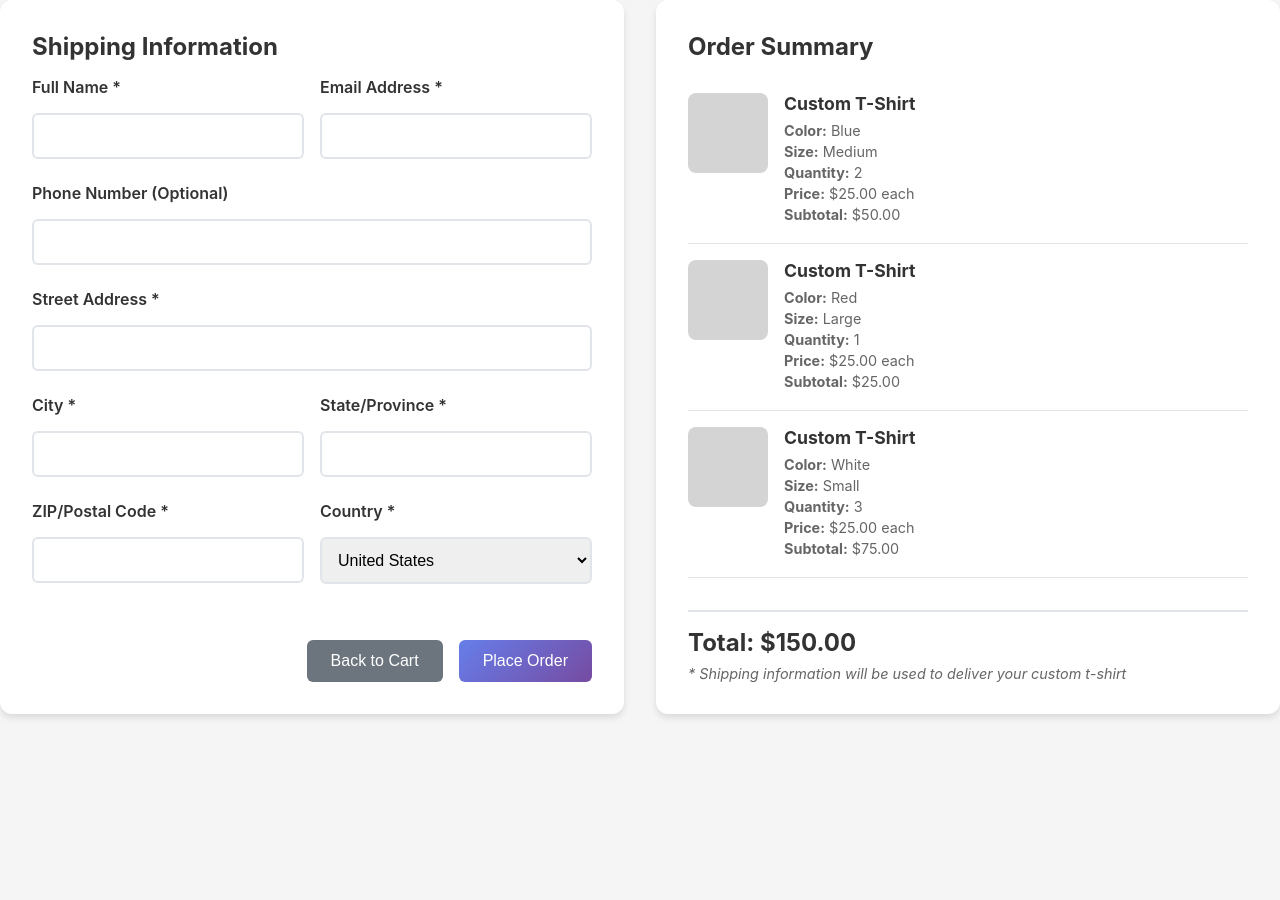
Test case: Checkout Component › Navigation and User Experience › should show loading state during order processing
The image size is (1280, 900).
# Fill in all required fields
In the field labelled "Full Name *": (168,136) x1=32 y1=113 x2=304 y2=159, type "Test Customer"
In the field labelled "Email Address *": (456,136) x1=320 y1=113 x2=592 y2=159, type "test@example.com"
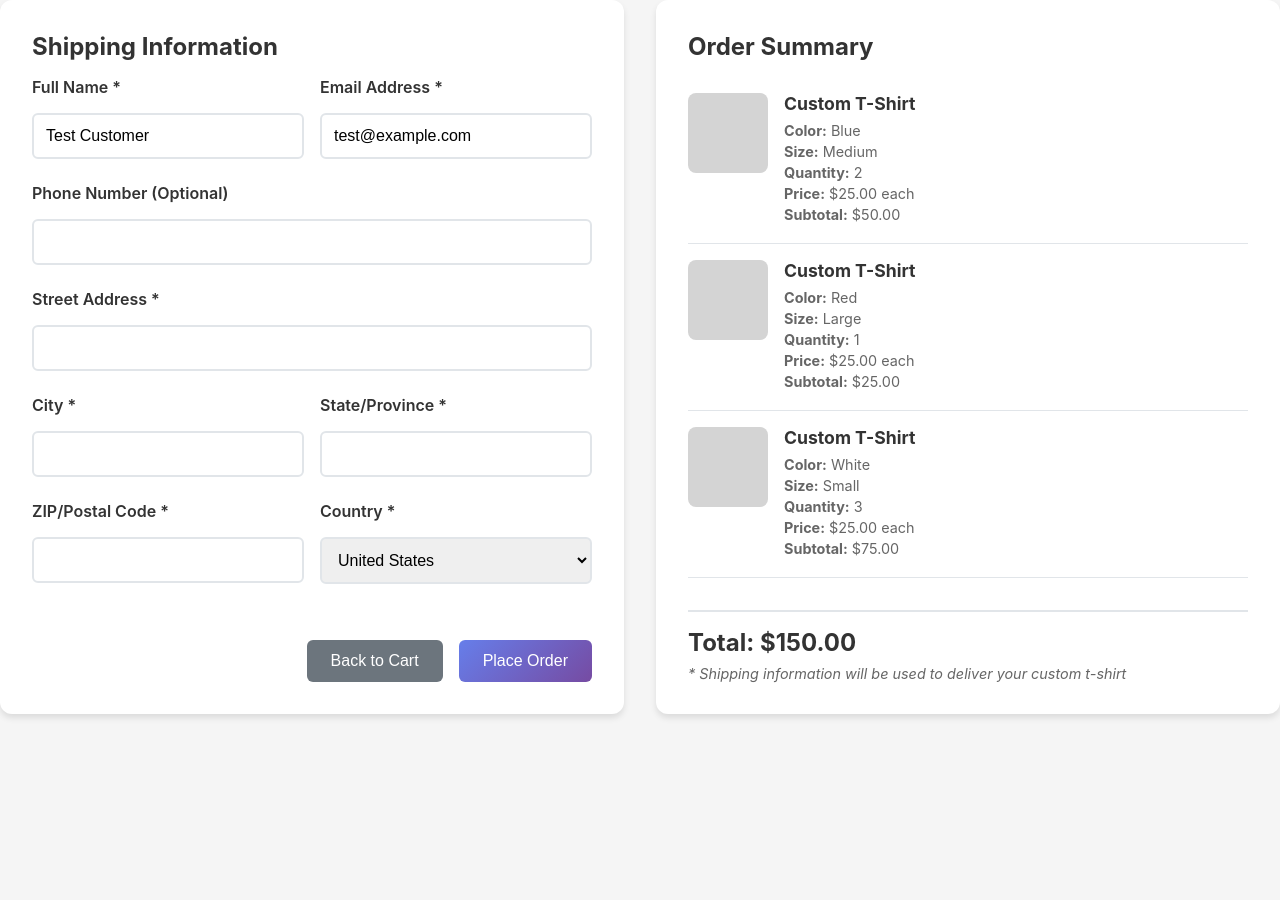
In the field labelled "Street Address *": (312,348) x1=32 y1=325 x2=592 y2=371, type "123 Test St"
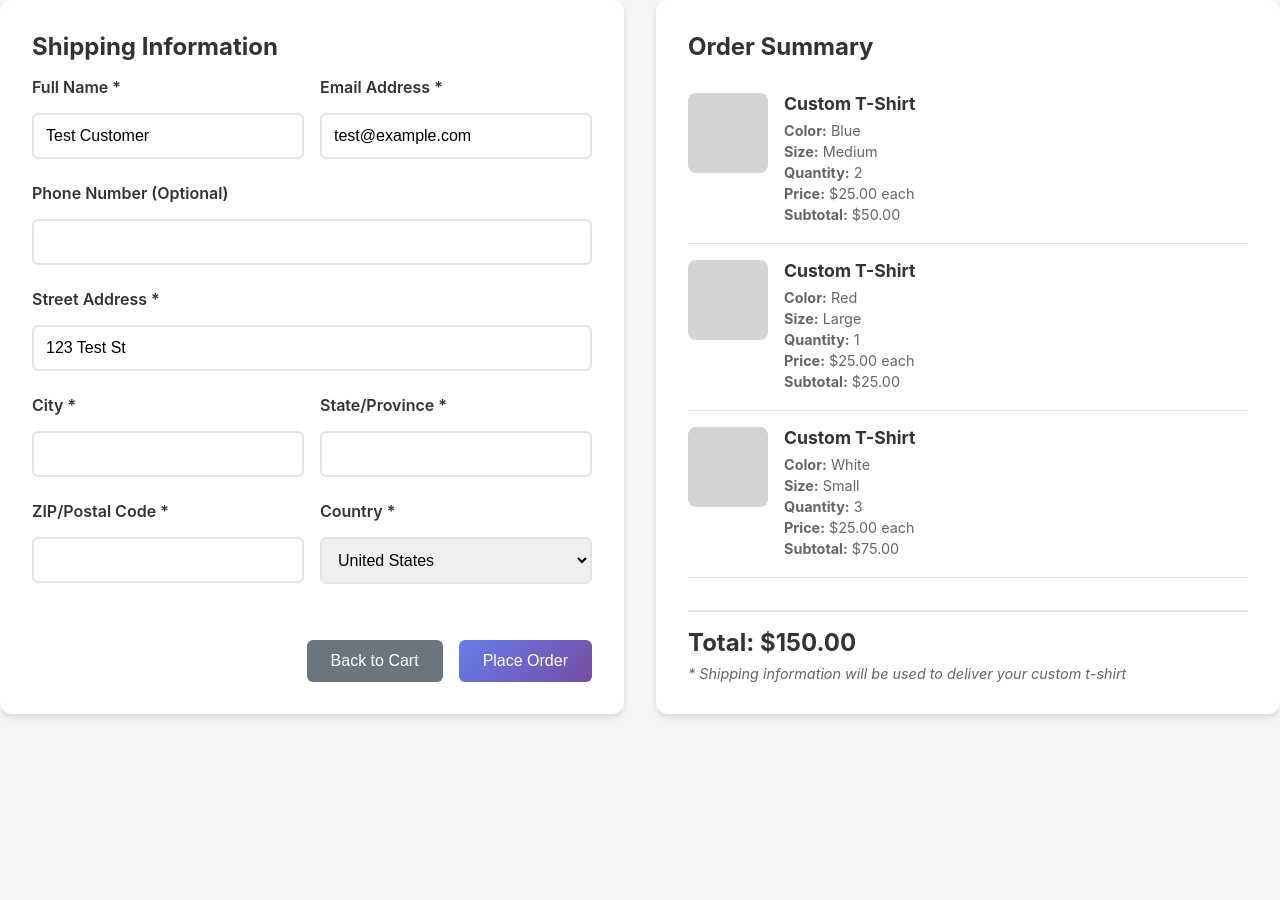
In the field labelled "City *": (168,454) x1=32 y1=431 x2=304 y2=477, type "Test City"
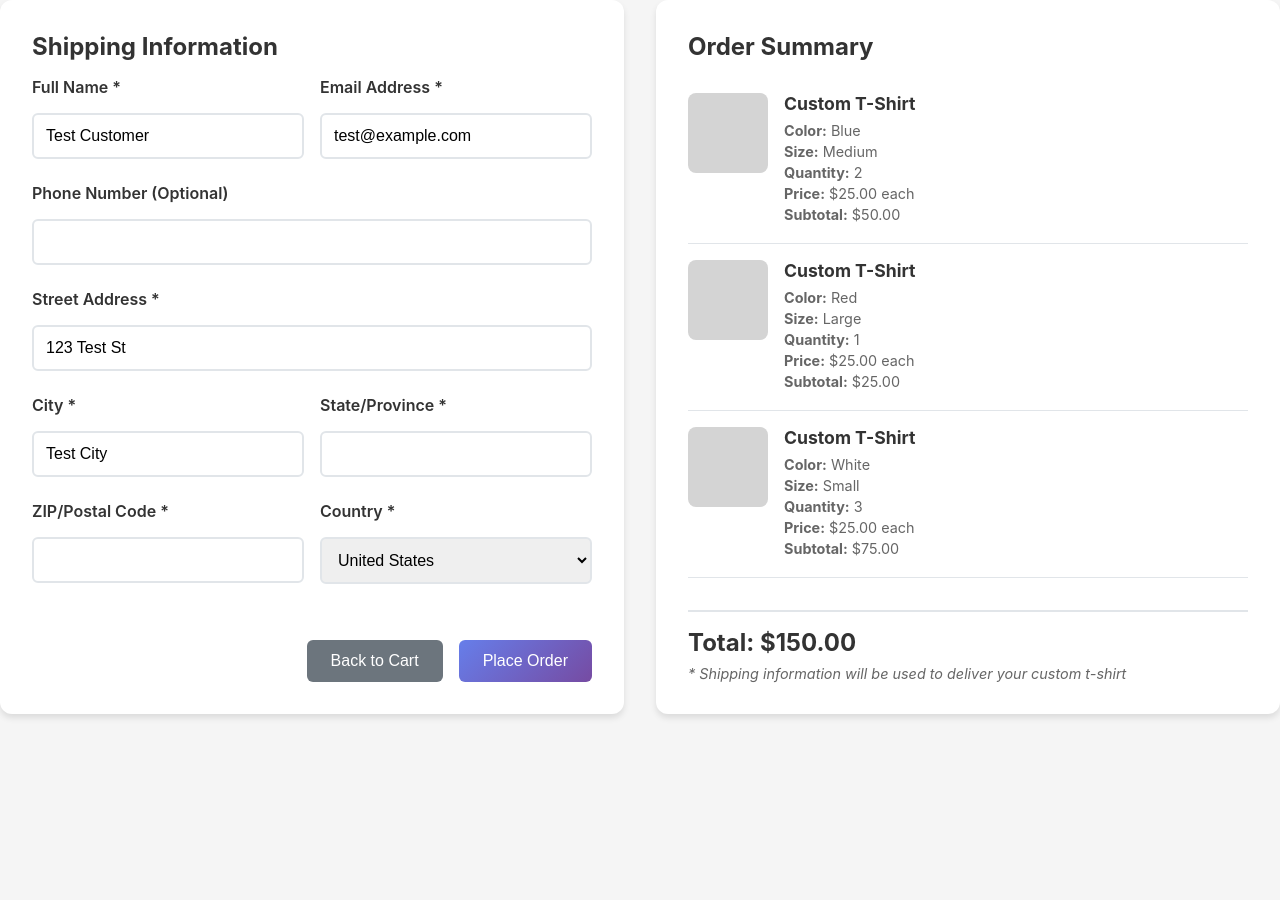
In the field labelled "State/Province *": (456,454) x1=320 y1=431 x2=592 y2=477, type "TS"
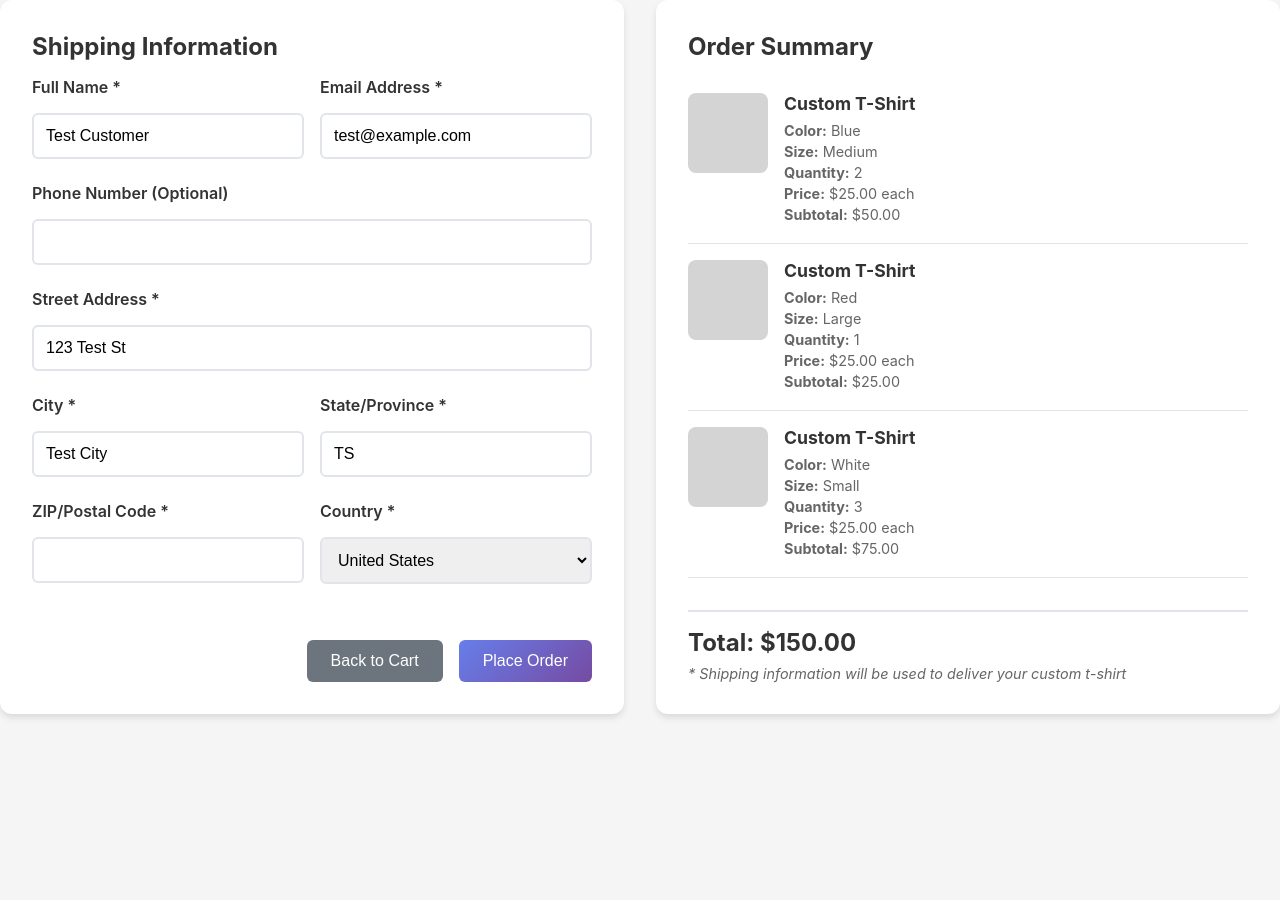
In the field labelled "ZIP/Postal Code *": (168,560) x1=32 y1=537 x2=304 y2=583, type "12345"
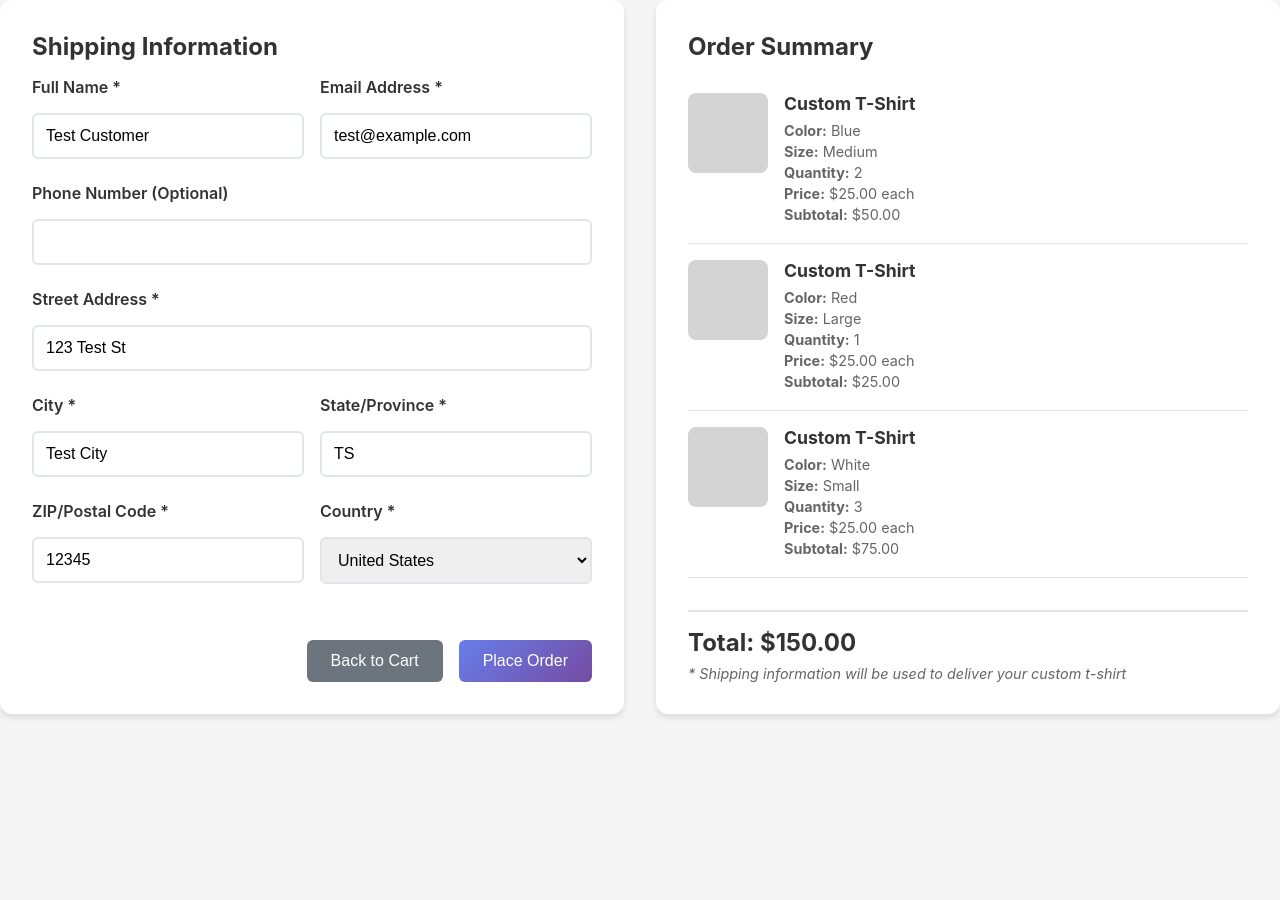
# Submit order
Click the button "Place Order": (525,661) x1=459 y1=640 x2=592 y2=682
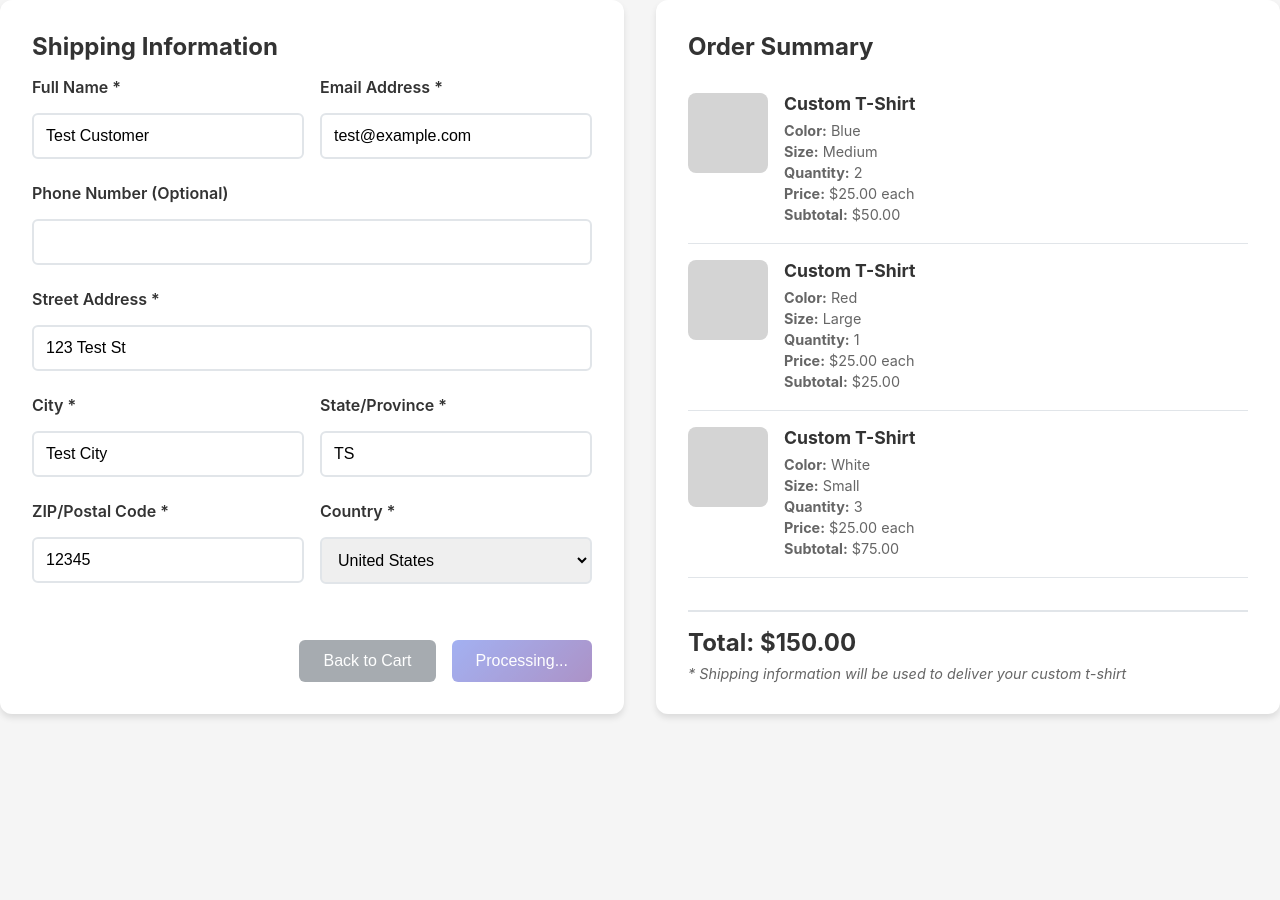
Result: the button "Processing..." is disabled at x1=452 y1=640 x2=592 y2=682
